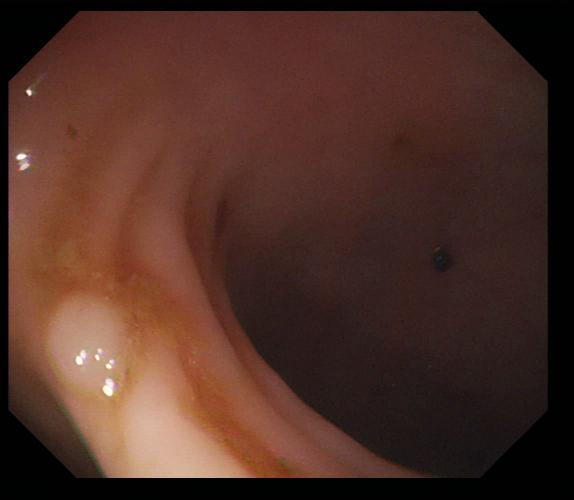polyp: (41, 294, 139, 412)
